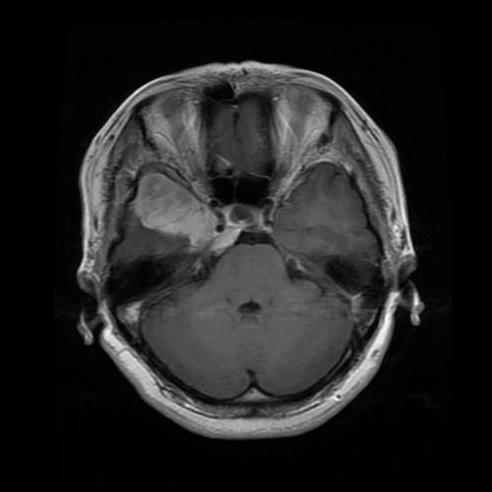Tumour-Meningioma: (120, 164, 254, 288)
